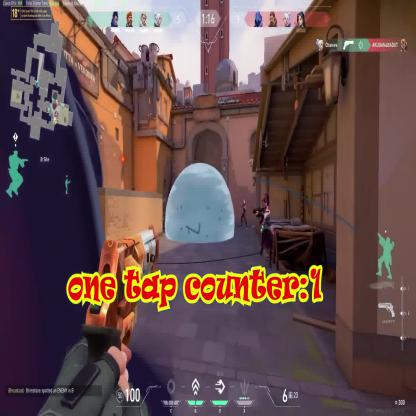enemy: (256, 191, 274, 268), (240, 198, 249, 229)
enemy_head: (262, 195, 268, 207), (243, 200, 245, 204)
